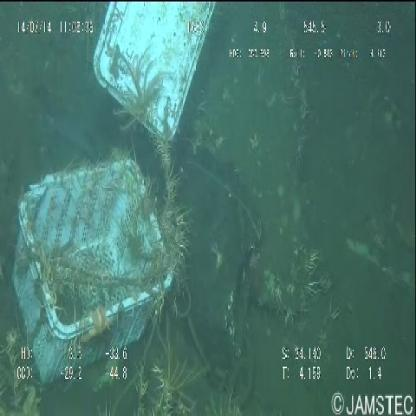Rác: (12, 1, 224, 390)
